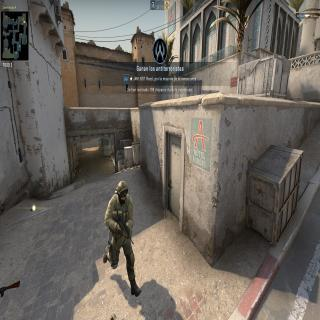CT-Head: (116, 178, 129, 208)
